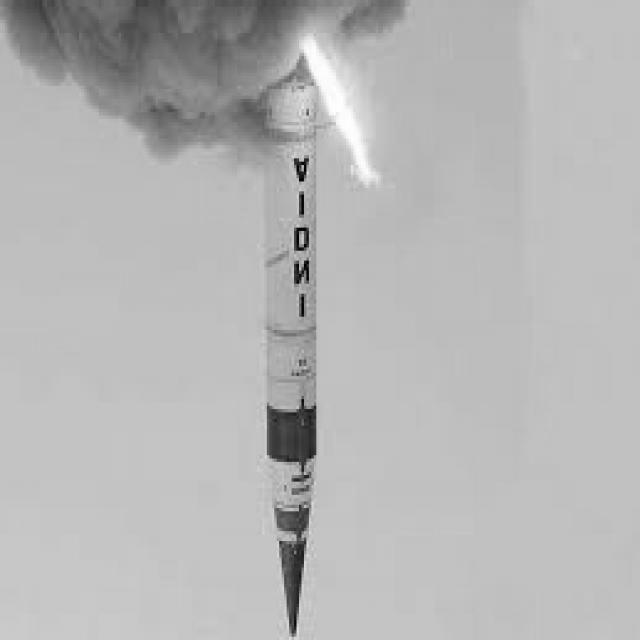Missile: (261, 36, 328, 640)
